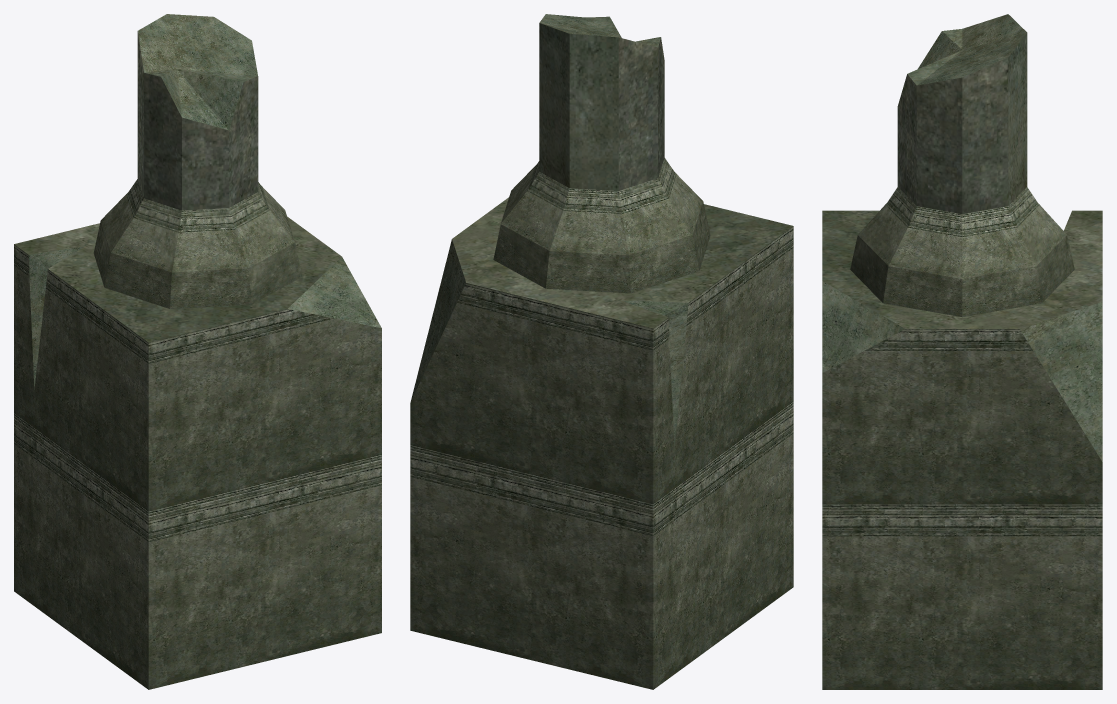
The model's file is thm_dant_jedi_temple_pillar_sm_l1.fbx.
The picture shows the model from 3 angles, left to right: view 1: azimuth 30°, elevation 25°; view 2: azimuth 150°, elevation 25°; view 3: azimuth 270°, elevation 25°; orthographic projection. The views are drawn at different scales.
Parts seen in each view (by area): view 1: mesh_node; view 2: mesh_node; view 3: mesh_node.
Part boxes in pixels (x1,y1,x2,y2): mesh_node: [14, 14, 381, 689]; mesh_node: [410, 14, 793, 689]; mesh_node: [822, 14, 1102, 689].
Bounding box in the file's own units: 2 × 4.72 × 2.
